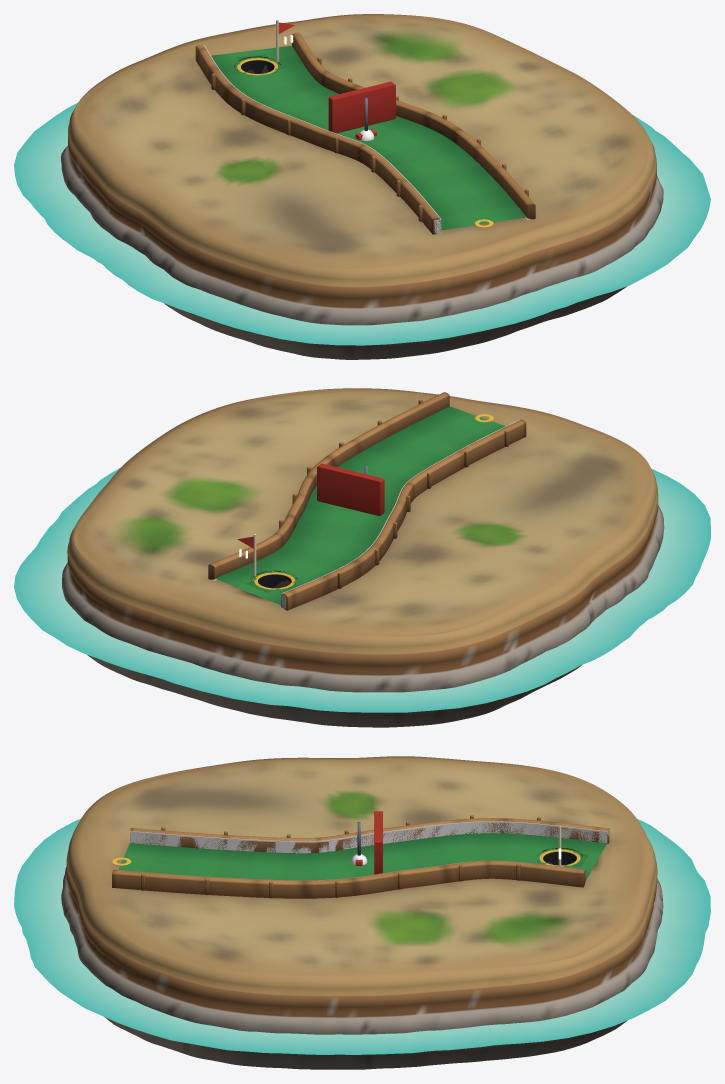
Rendered from course-11.glb.
The picture shows the model from 3 angles, top to bottom: view 1: azimuth 30°, elevation 25°; view 2: azimuth 150°, elevation 25°; view 3: azimuth 270°, elevation 25°; orthographic projection.
Visible parts, largest first — view 1: scenery-matte, water-shore, surface-grass, rail-trim-left, rail-trim-right, obstacle-harbor-gate; view 2: scenery-matte, water-shore, surface-grass, rail-trim-left, rail-trim-right, obstacle-harbor-gate; view 3: scenery-matte, water-shore, surface-grass, rail-trim-right, rail-left, rail-trim-left, obstacle-harbor-gate.
Boxes of the visible parts, x1,y1,x2,y2 form: scenery-matte: [61, 14, 663, 359]; water-shore: [14, 103, 710, 345]; surface-grass: [211, 45, 526, 230]; rail-trim-left: [195, 44, 440, 234]; rail-trim-right: [292, 32, 535, 219]; obstacle-harbor-gate: [328, 81, 395, 133]; scenery-matte: [62, 388, 664, 727]; water-shore: [14, 467, 710, 712]; surface-grass: [215, 406, 505, 604]; rail-trim-left: [281, 419, 526, 610]; rail-trim-right: [208, 392, 449, 579]; obstacle-harbor-gate: [317, 463, 384, 515]; scenery-matte: [61, 756, 663, 1069]; water-shore: [14, 819, 710, 1054]; surface-grass: [118, 833, 606, 880]; rail-trim-right: [112, 860, 585, 898]; rail-left: [130, 821, 608, 853]; rail-trim-left: [130, 815, 609, 852]; obstacle-harbor-gate: [374, 811, 382, 874].
Size of the model in its own units: 12.12 by 3.26 by 13.07.
